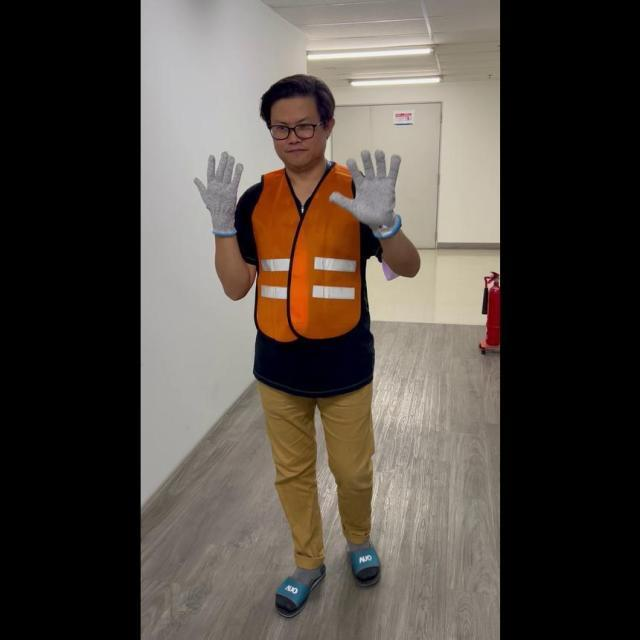gloved_hand: (329, 146, 403, 231), (193, 147, 245, 234)
